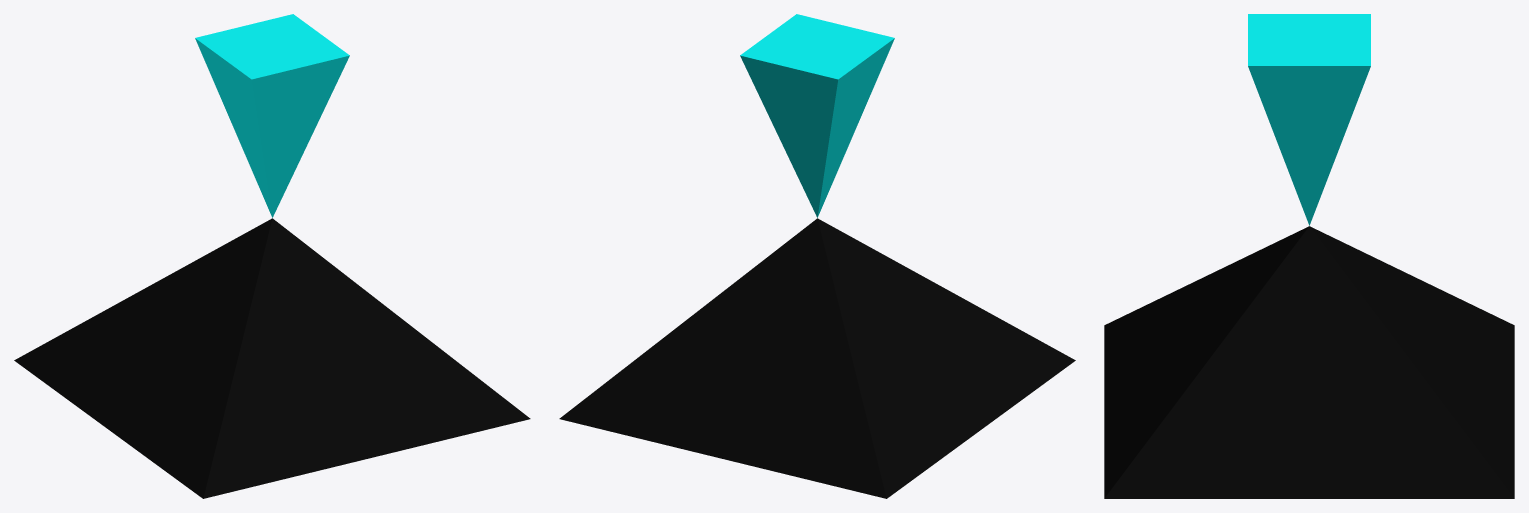
Rendered from skin_3_1_model.fbx.
The picture shows the model from 3 angles, left to right: view 1: azimuth 30°, elevation 25°; view 2: azimuth 150°, elevation 25°; view 3: azimuth 270°, elevation 25°; orthographic projection. The views are drawn at different scales.
Parts seen in each view (by area): view 1: Cube; view 2: Cube; view 3: Cube.
Boxes of the visible parts, <box> form: Cube: <box>14,14,530,498</box>; Cube: <box>559,14,1075,498</box>; Cube: <box>1104,14,1514,498</box>.
Bounding box in the file's own units: 200 × 200 × 200.
